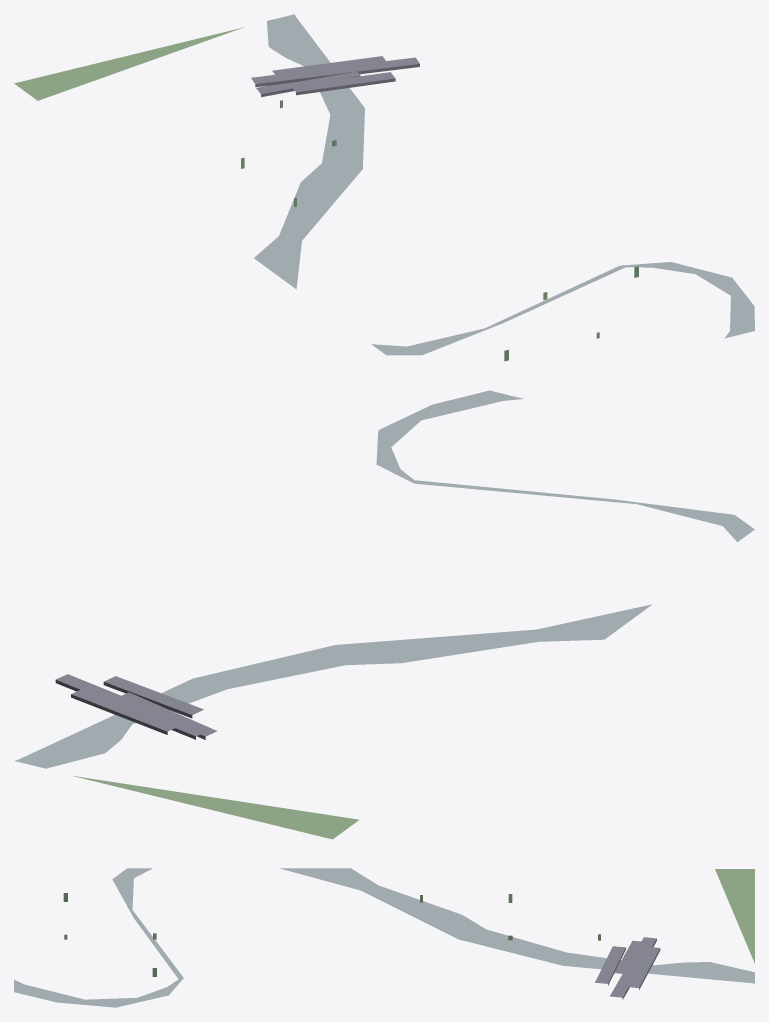
3 renders of one model, top to bottom at view 1: azimuth 30°, elevation 25°; view 2: azimuth 150°, elevation 25°; view 3: azimuth 270°, elevation 25°, orthographic. The views are drawn at different scales.
Bounding box in the file's own units: 223 × 9.72 × 500.
